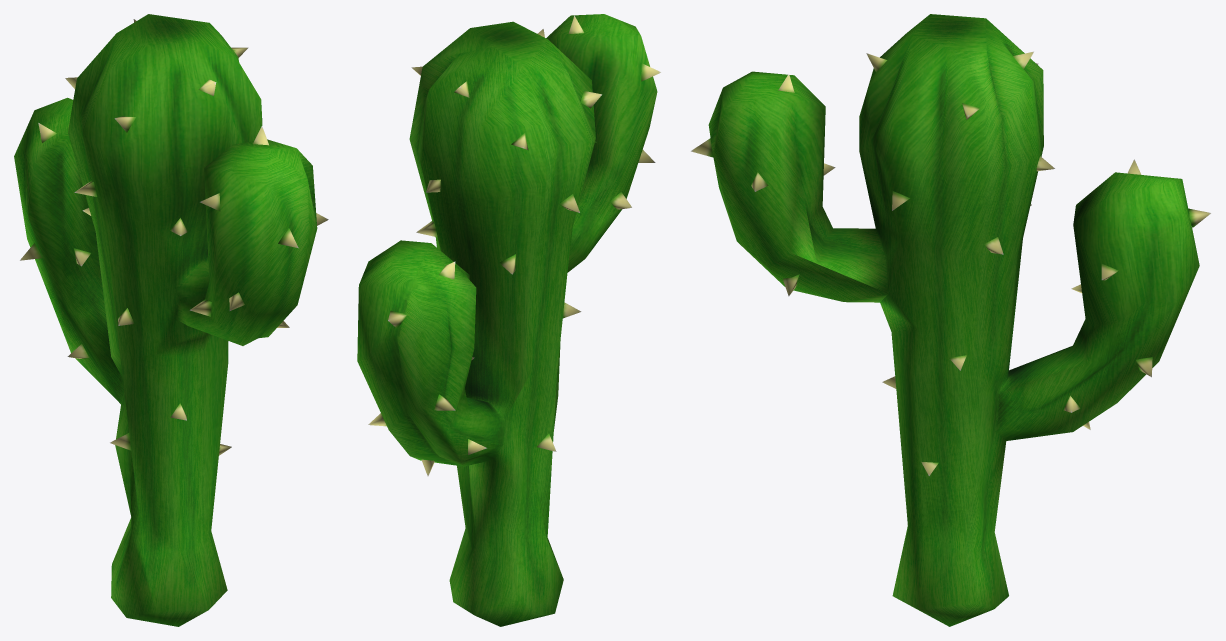
The model's file is cactus_low_poly.glb.
3 views of the same model, side by side, from view 1: azimuth 30°, elevation 25°; view 2: azimuth 150°, elevation 25°; view 3: azimuth 270°, elevation 25° (orthographic).
Parts seen in each view (by area): view 1: Object_2; view 2: Object_2; view 3: Object_2.
Boxes of the visible parts, x1,y1,x2,y2 form: Object_2: (14, 14, 328, 626); Object_2: (357, 14, 660, 626); Object_2: (691, 14, 1210, 626).
Bounding box in the file's own units: 2.17 × 7.04 × 5.64.
Materials: 1 (1 with a texture image).
